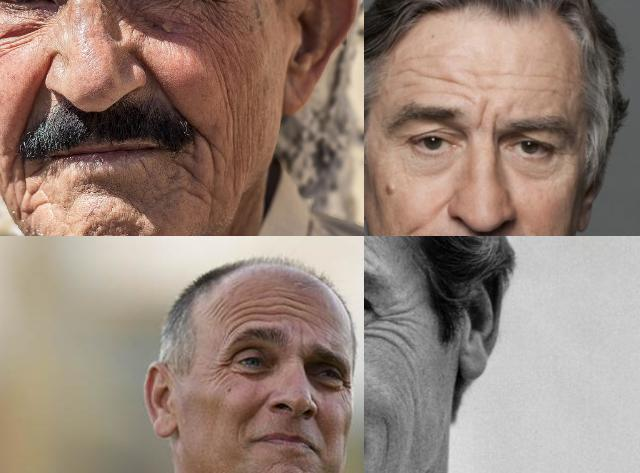chin: (172, 156, 200, 184), (137, 158, 153, 179)
crows_feet: (374, 311, 412, 343), (212, 353, 232, 381), (192, 0, 223, 14), (341, 376, 351, 400)
forehead: (411, 64, 457, 88), (236, 298, 268, 328), (274, 288, 304, 320), (205, 294, 231, 322), (524, 81, 562, 98)
frown_line: (472, 98, 493, 132)
gummy_smile: (140, 58, 180, 98), (19, 78, 46, 126), (246, 390, 270, 418)
masseter: (217, 64, 240, 128), (180, 20, 230, 46), (374, 418, 396, 460), (0, 35, 27, 55)
sad_smile: (10, 166, 40, 211), (198, 132, 222, 172)
